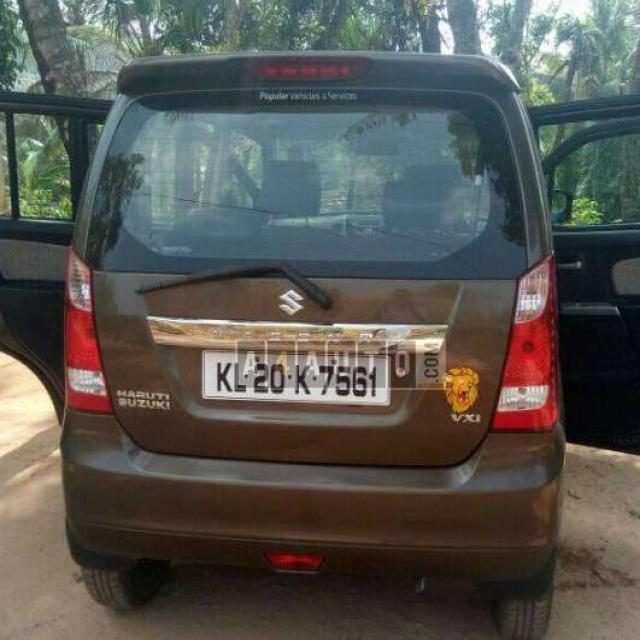license-plate: (199, 345, 390, 409)
